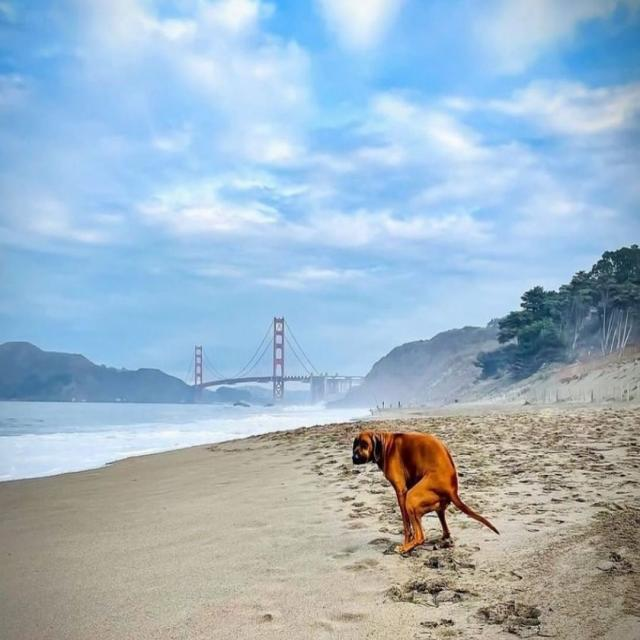squatting: (348, 426, 501, 556)
